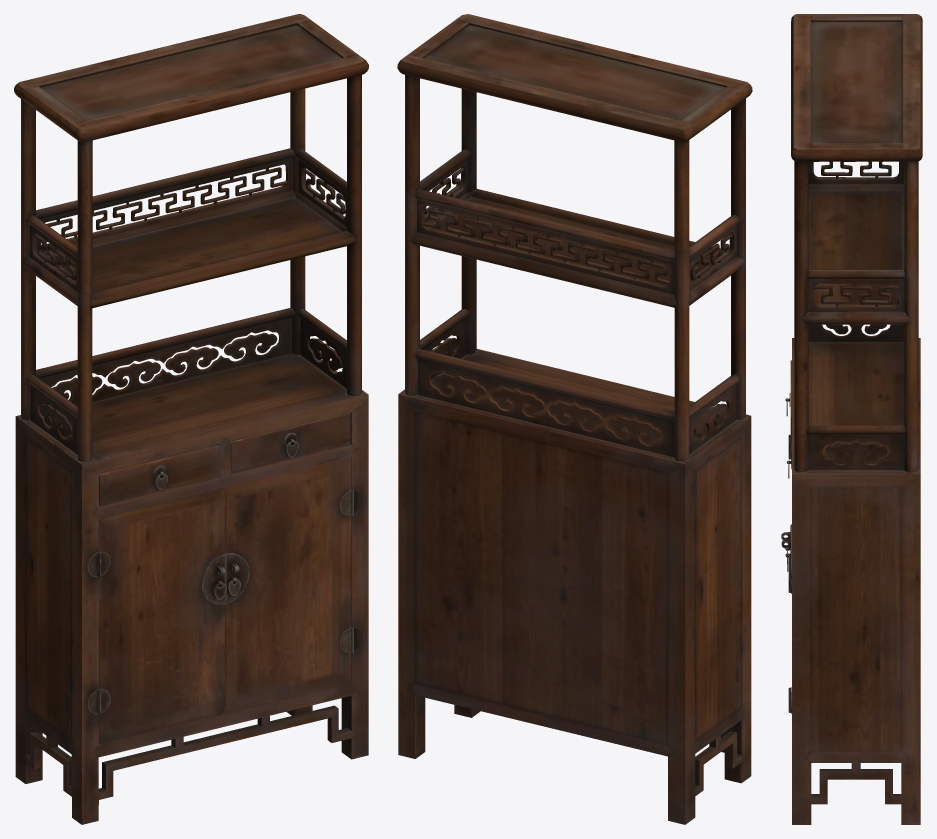
Rendered from chinese_cabinet.glb.
The picture shows the model from 3 angles, left to right: view 1: azimuth 30°, elevation 25°; view 2: azimuth 150°, elevation 25°; view 3: azimuth 270°, elevation 25°; orthographic projection. The views are drawn at different scales.
Visible parts, largest first — view 1: chinese_cabinet; view 2: chinese_cabinet; view 3: chinese_cabinet.
Part boxes in pixels (<box>): chinese_cabinet: <box>14,14,368,824</box>; chinese_cabinet: <box>397,14,752,824</box>; chinese_cabinet: <box>781,14,922,824</box>.
Size of the model in its own units: 1.26 by 2.87 by 0.5452.
1 material, 1 textured.
